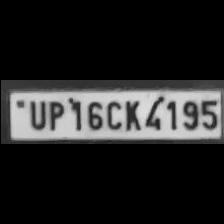1: (64, 97, 82, 130), (162, 97, 180, 130)
4: (142, 96, 162, 130)
5: (198, 96, 220, 130)
6: (82, 98, 102, 130)
9: (178, 98, 198, 130)
C: (104, 98, 122, 130)
K: (120, 96, 142, 132)
P: (45, 97, 65, 130)
U: (24, 98, 46, 130)
